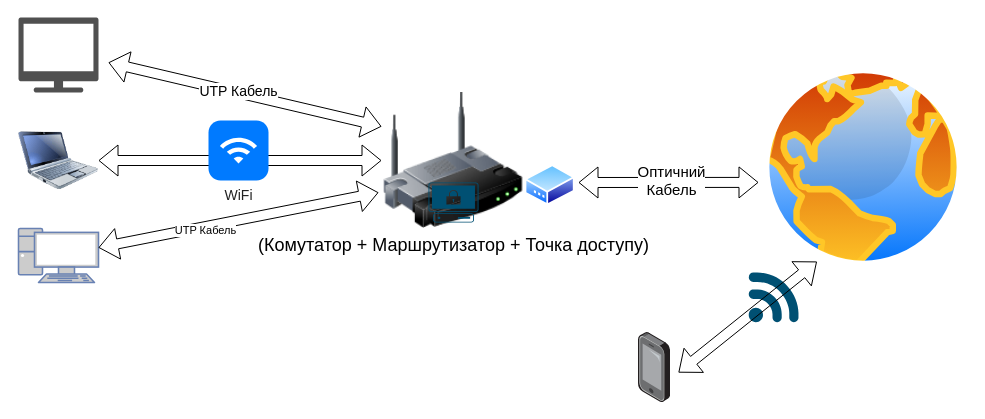
Some shapes in this 985 by 419 pixel diagram are drawn without their labels. Each missing label, with the centre of its shape:
"Мережа (4G / 5G)" goes at [773,297].
"Модем" goes at [550,185].
